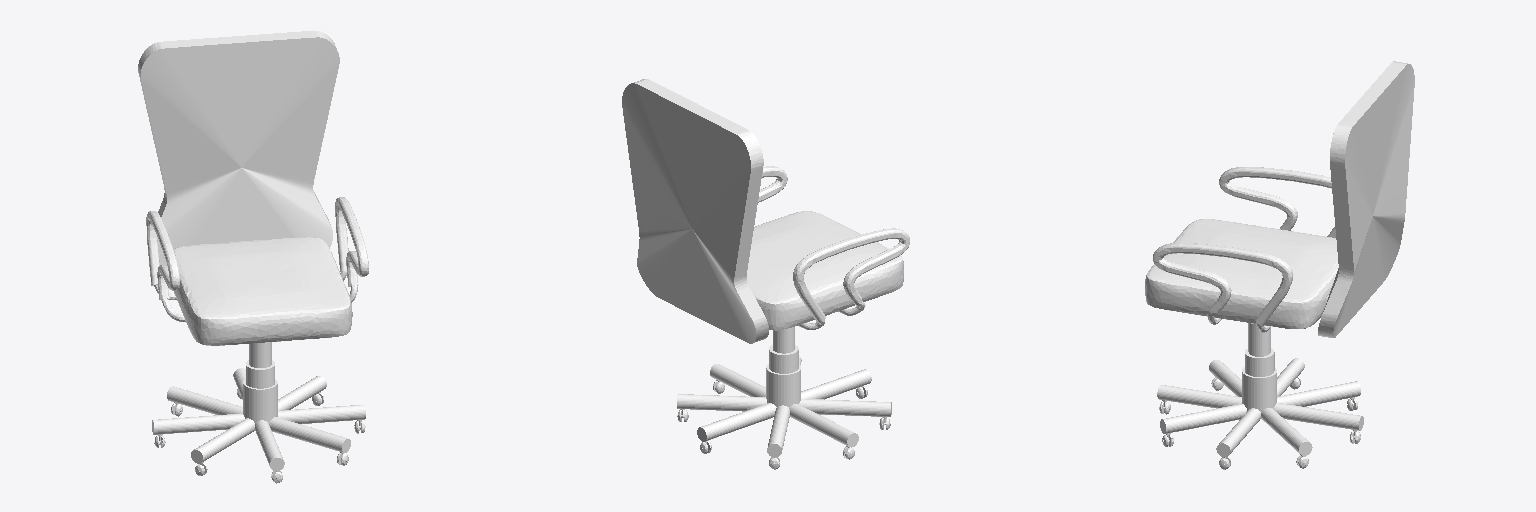
File: sedia.obj
3 renders of one model, left to right at view 1: azimuth 30°, elevation 25°; view 2: azimuth 150°, elevation 25°; view 3: azimuth 270°, elevation 25°, orthographic.
Visible parts, largest first — view 1: sedia_(non_modellata_da_me).1; view 2: sedia_(non_modellata_da_me).1; view 3: sedia_(non_modellata_da_me).1.
Boxes of the visible parts, <box> form: sedia_(non_modellata_da_me).1: <box>138,31,368,483</box>; sedia_(non_modellata_da_me).1: <box>622,79,909,469</box>; sedia_(non_modellata_da_me).1: <box>1145,61,1414,469</box>.
Size of the model in its own units: 62.8 by 92.83 by 64.58.